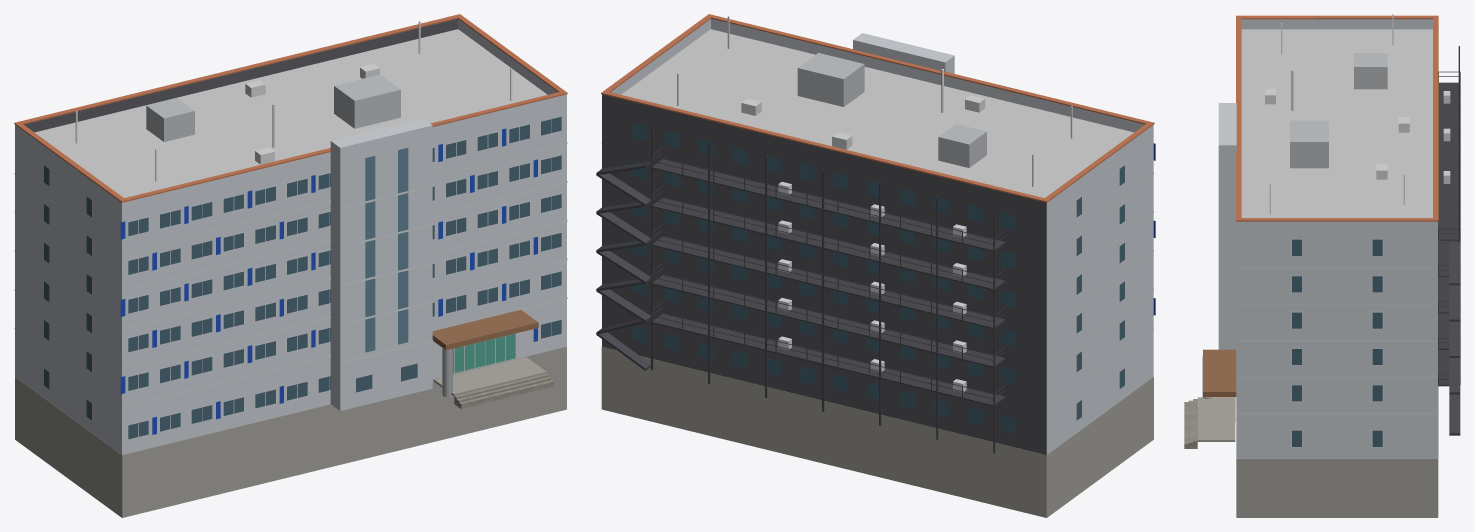
The picture shows the model from 3 angles, left to right: view 1: azimuth 30°, elevation 25°; view 2: azimuth 150°, elevation 25°; view 3: azimuth 270°, elevation 25°; orthographic projection. The views are drawn at different scales.
Parts seen in each view (by area): view 1: w451562717__panel-wall, w451562717__roof, w451562717__foundation-wall, w451562717__glass, w451562717__frame, w451562717__coping-stone, w451562717__dark-wall, w451562717__box-wall, w451562717__slit-glass, w451562717__blue-panel, w451562717__canopy-brown, w451562717__landing-stone (+3 smaller); view 2: w451562717__dark-wall, w451562717__foundation-wall, w451562717__panel-wall, w451562717__roof, w451562717__steel-dark, w451562717__glass, w451562717__coping-stone, w451562717__box-wall, w451562717__ac, w451562717__frame; view 3: w451562717__panel-wall, w451562717__roof, w451562717__foundation-wall, w451562717__steel-dark, w451562717__coping-stone, w451562717__frame, w451562717__box-wall, w451562717__glass, w451562717__landing-stone, w451562717__canopy-brown, w451562717__ac, w451562717__granite-stone (+1 smaller).
Boxes of the visible parts, x1,y1,x2,y2 form: w451562717__panel-wall: (15,19,566,454); w451562717__roof: (34,29,547,197); w451562717__foundation-wall: (15,346,566,517); w451562717__glass: (44,116,561,439); w451562717__frame: (14,115,567,440); w451562717__coping-stone: (14,14,567,202); w451562717__dark-wall: (24,18,457,132); w451562717__box-wall: (146,74,400,141); w451562717__slit-glass: (365,148,408,352); w451562717__blue-panel: (120,128,537,434); w451562717__canopy-brown: (432,309,538,350); w451562717__landing-stone: (434,357,546,395); w451562717__dark-wall: (602,94,1046,454); w451562717__foundation-wall: (601,346,1153,517); w451562717__panel-wall: (611,18,1153,454); w451562717__roof: (621,29,1133,197); w451562717__steel-dark: (596,127,1005,453); w451562717__glass: (631,122,1124,433); w451562717__coping-stone: (601,14,1154,202); w451562717__box-wall: (797,53,986,167); w451562717__ac: (741,95,985,392); w451562717__frame: (601,142,1153,421); w451562717__panel-wall: (1218,19,1437,458); w451562717__roof: (1241,29,1432,217); w451562717__foundation-wall: (1236,458,1438,517); w451562717__steel-dark: (1438,46,1460,435); w451562717__coping-stone: (1236,15,1438,221); w451562717__frame: (1235,238,1437,447); w451562717__box-wall: (1290,53,1387,168); w451562717__glass: (1292,239,1382,446); w451562717__landing-stone: (1197,397,1235,441); w451562717__canopy-brown: (1203,349,1236,396); w451562717__ac: (1265,88,1450,183); w451562717__granite-stone: (1184,399,1197,448).
Size of the model in its own units: 43.55 by 32.35 by 24.81.
19 materials, 1 textured.
